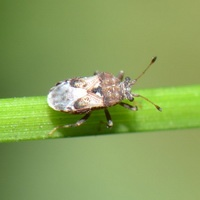insect: (47, 56, 161, 134)
